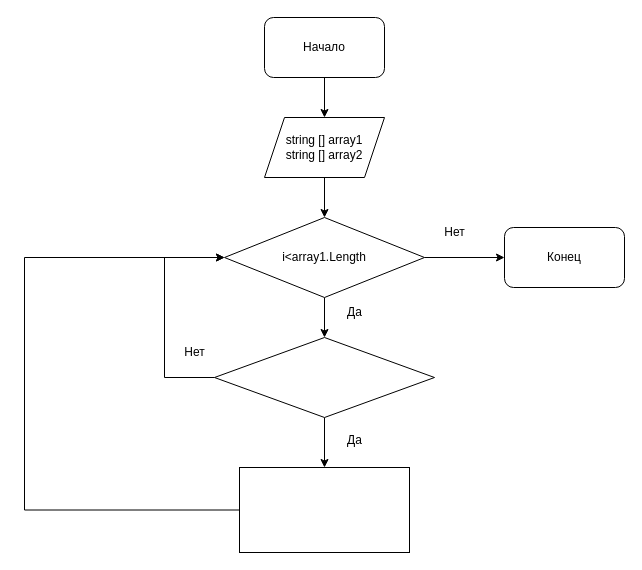
The diagram is 642 pixels wide and 570 high, and some of its shapes have lost their labels. The shapes that lost their labels are listed below. From the top down, each one's centre as x and y in pixels, then its label:
At [324,377]: "if array1[i].Length<=3".
At [324,509]: "array2[count] = array 1[i] count++".
